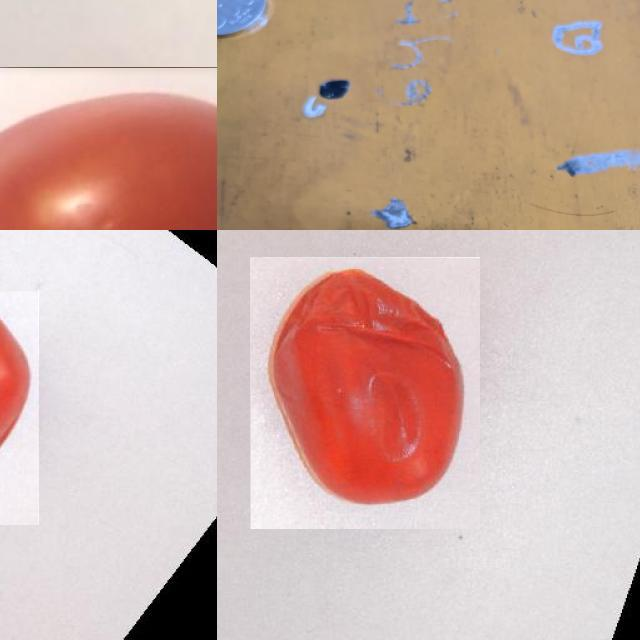Fresh Tomato: (0, 67, 217, 230)
Rotten Tomato: (250, 257, 480, 529)
